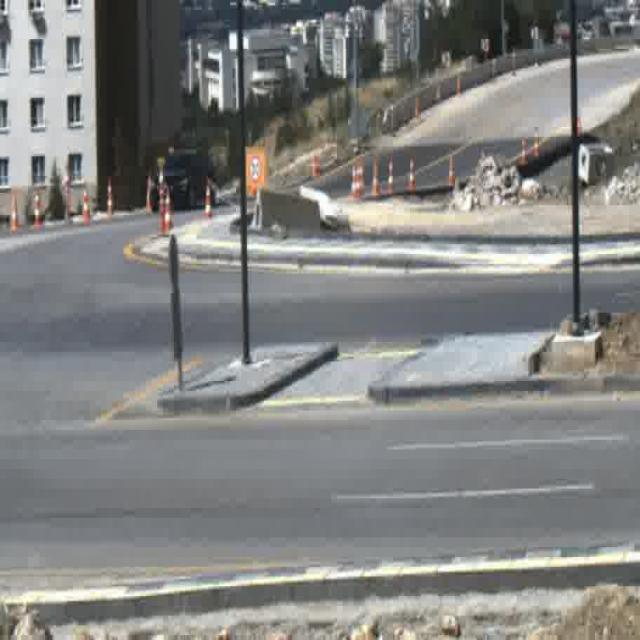Car: (150, 148, 209, 214)
